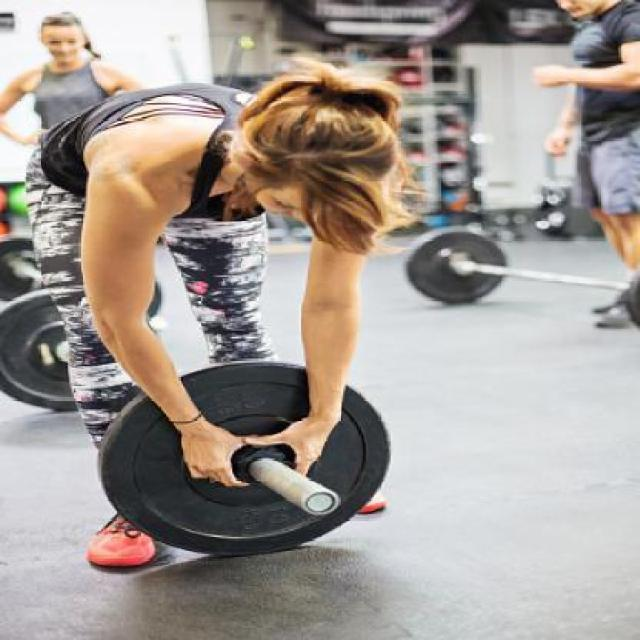barbell: (97, 351, 398, 565)
